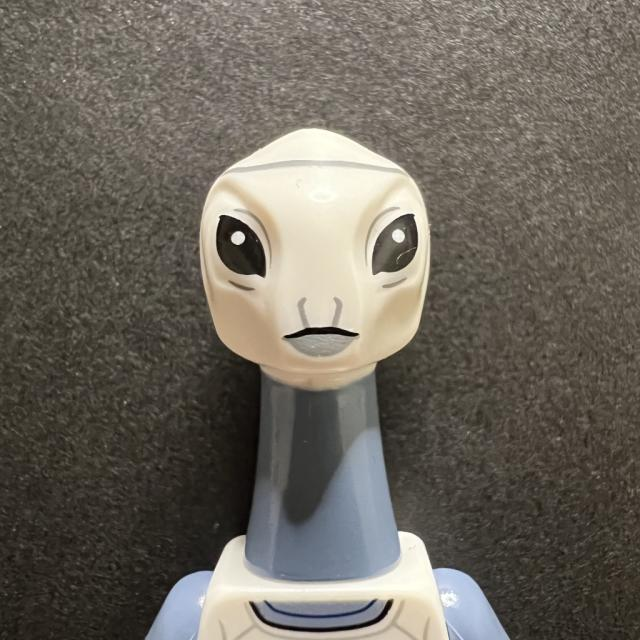alien: (195, 116, 434, 400)
